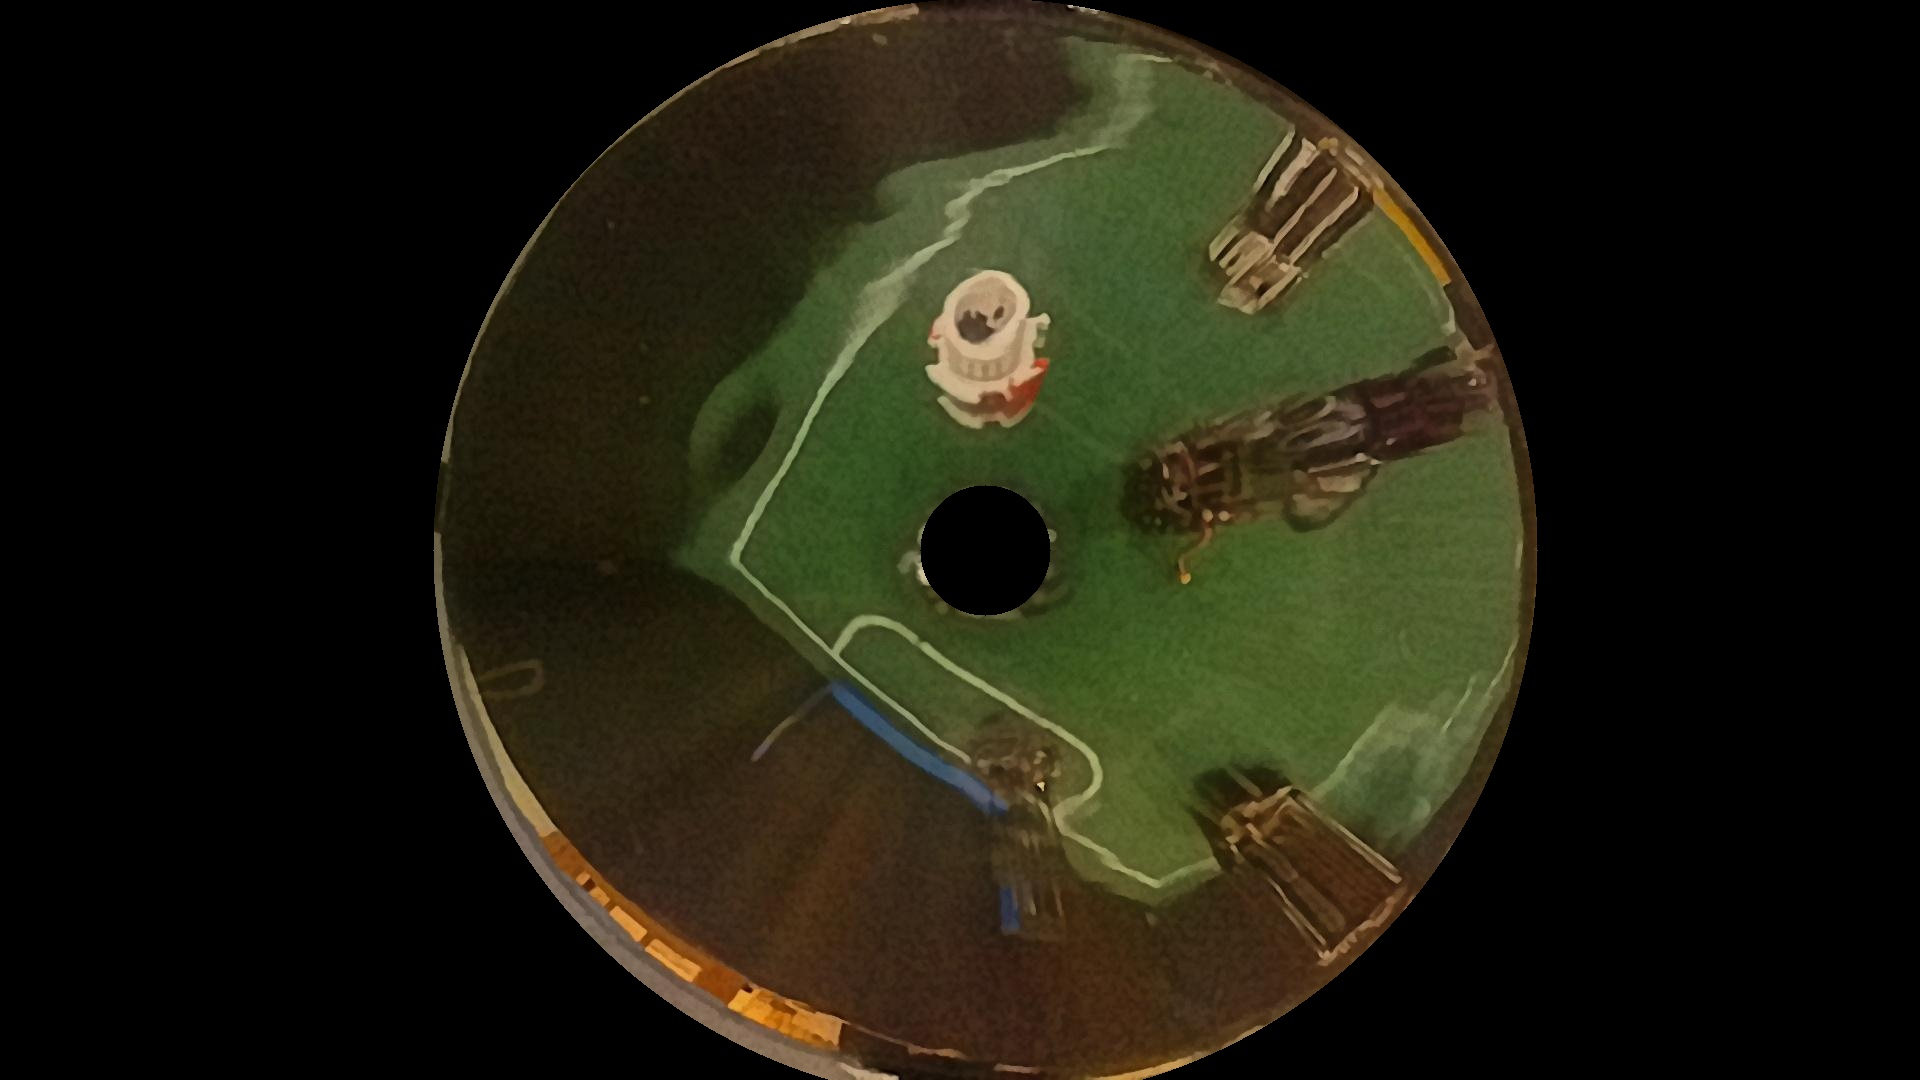blue-goal: (800, 682, 1047, 885)
robots: (1141, 367, 1468, 525), (1192, 732, 1394, 948), (1168, 119, 1373, 316), (953, 725, 1098, 915), (930, 270, 1050, 427)
yellow-goal: (1346, 164, 1486, 307)
